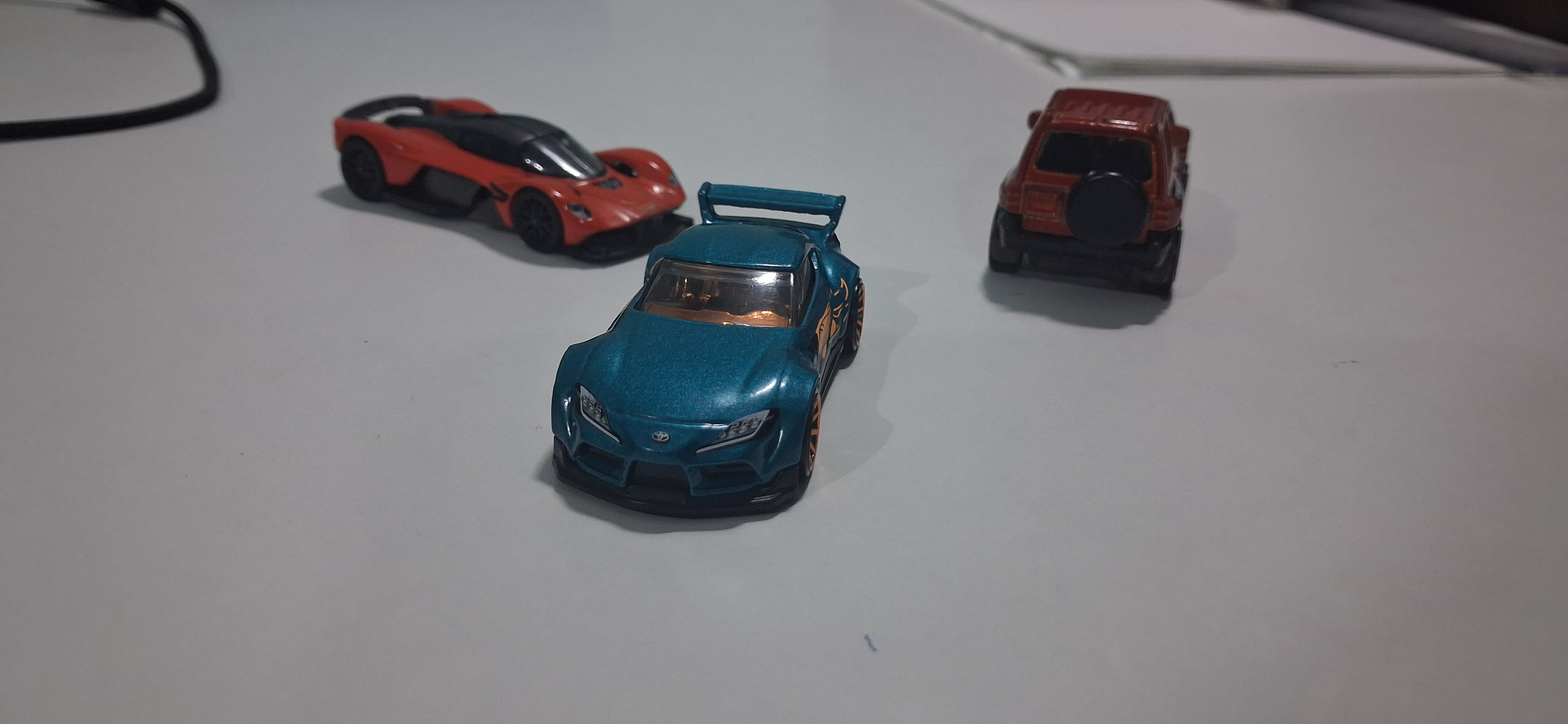Aston_Martin_Valkyrie: (304, 46, 698, 268)
Mitsubishi_Pajero_Evolution: (972, 94, 1264, 329)
Toyota_GR_Supra: (523, 186, 903, 534)
